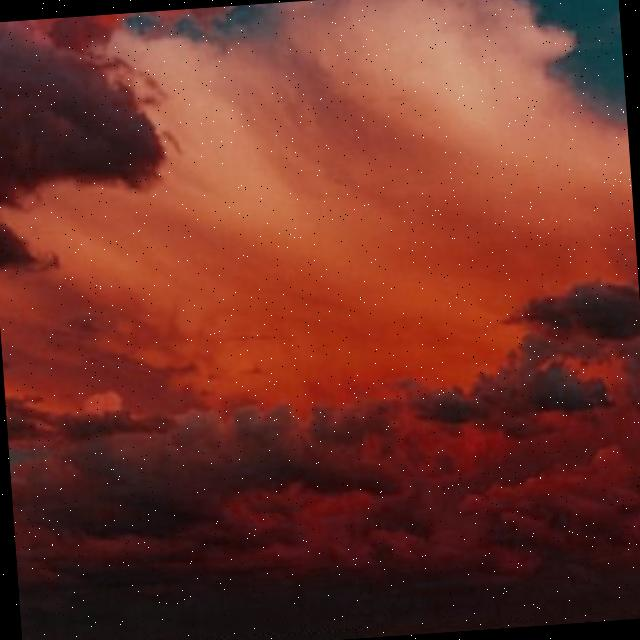Cu: (1, 1, 640, 588)
